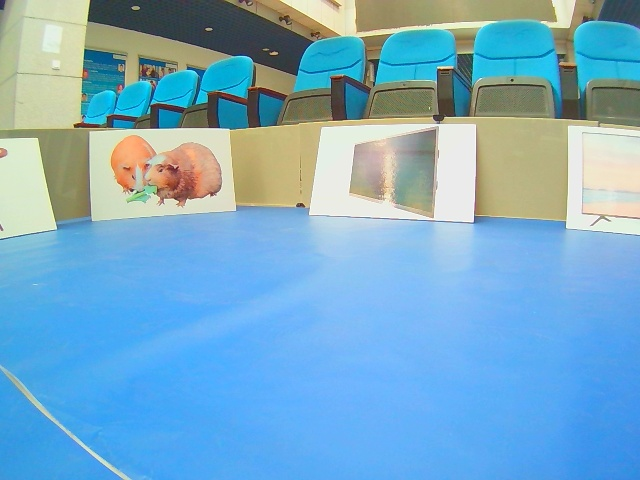pet: (87, 129, 236, 222)
tv: (309, 126, 477, 225)
